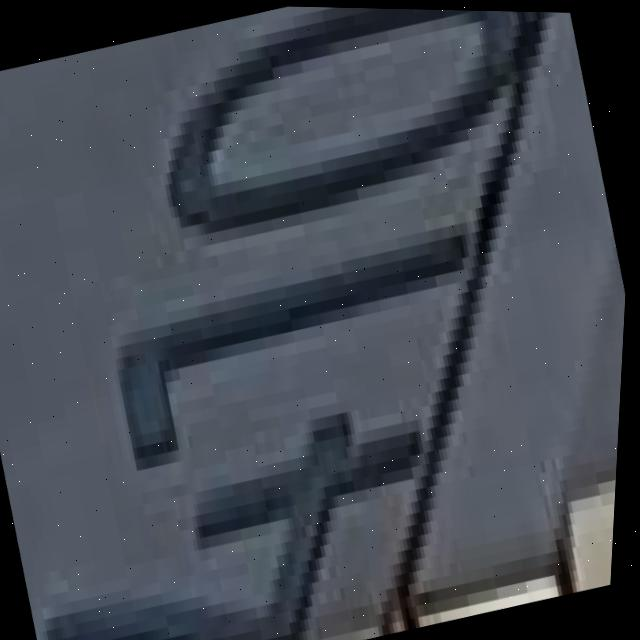character: (0, 354, 476, 640), (79, 205, 517, 498), (118, 3, 568, 272)
